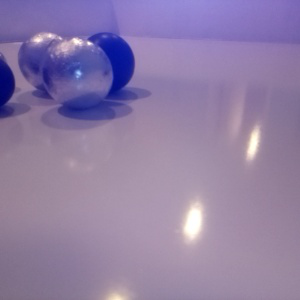alive_ball: (43, 36, 113, 110), (18, 32, 74, 91), (1, 51, 7, 88)
dead_ball: (79, 32, 135, 95), (1, 59, 16, 107)
